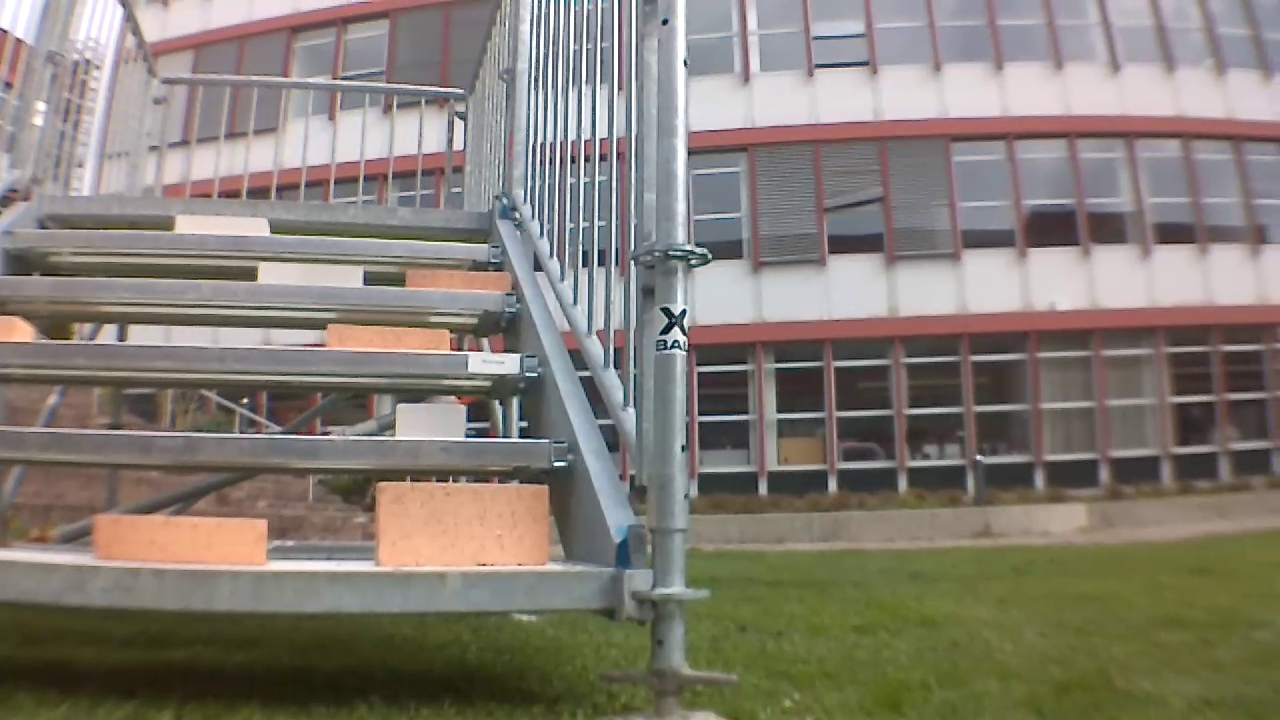brick: (368, 480, 562, 563), (90, 516, 271, 565), (406, 265, 521, 297), (393, 401, 474, 437), (327, 326, 447, 349), (255, 263, 370, 285), (172, 215, 266, 240)
edge: (0, 268, 512, 315), (0, 342, 544, 376), (0, 437, 578, 466), (0, 234, 506, 250), (9, 206, 494, 218)
stairs: (0, 0, 695, 669)
steps: (0, 197, 623, 624)
